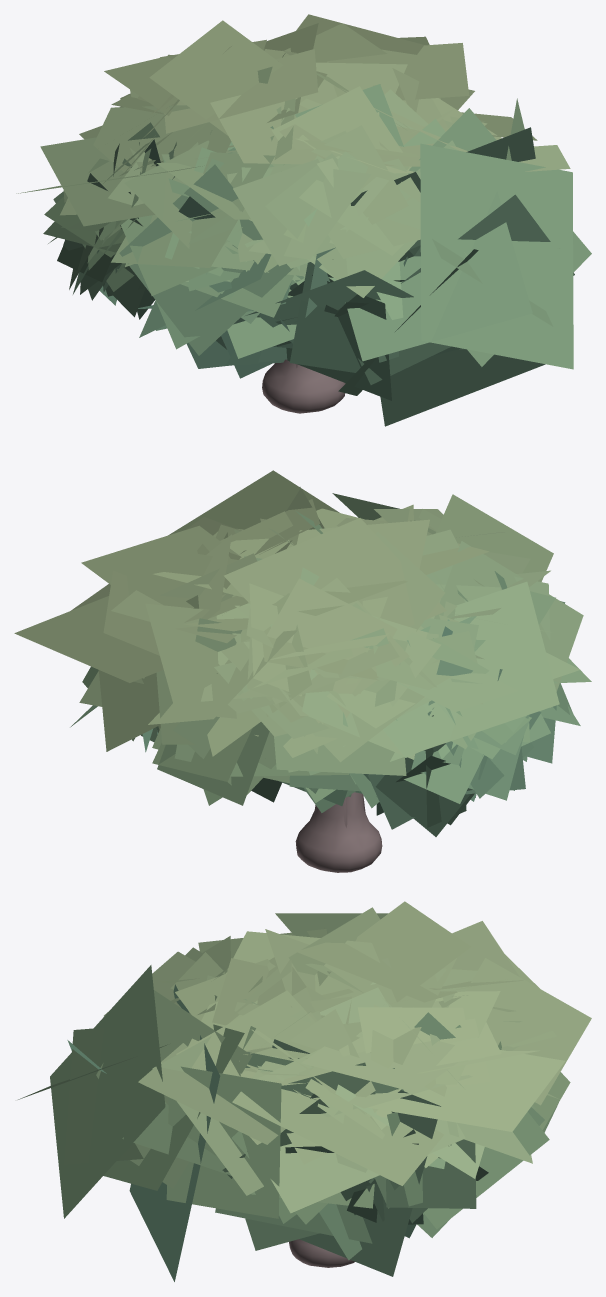
Rendered from ancient_oak_v4.glb.
The picture shows the model from 3 angles, top to bottom: view 1: azimuth 30°, elevation 25°; view 2: azimuth 150°, elevation 25°; view 3: azimuth 270°, elevation 25°; orthographic projection. The views are drawn at different scales.
Parts seen in each view (by area): view 1: far, near; view 2: near, far; view 3: far, near.
Part boxes in pixels (x1,y1,x2,y2): far: (16, 14, 591, 426); near: (43, 23, 501, 413); near: (70, 494, 591, 872); far: (14, 470, 580, 827); far: (18, 901, 565, 1281); near: (104, 921, 591, 1267).
Bounding box in the file's own units: 24.49 × 15.46 × 26.08.
